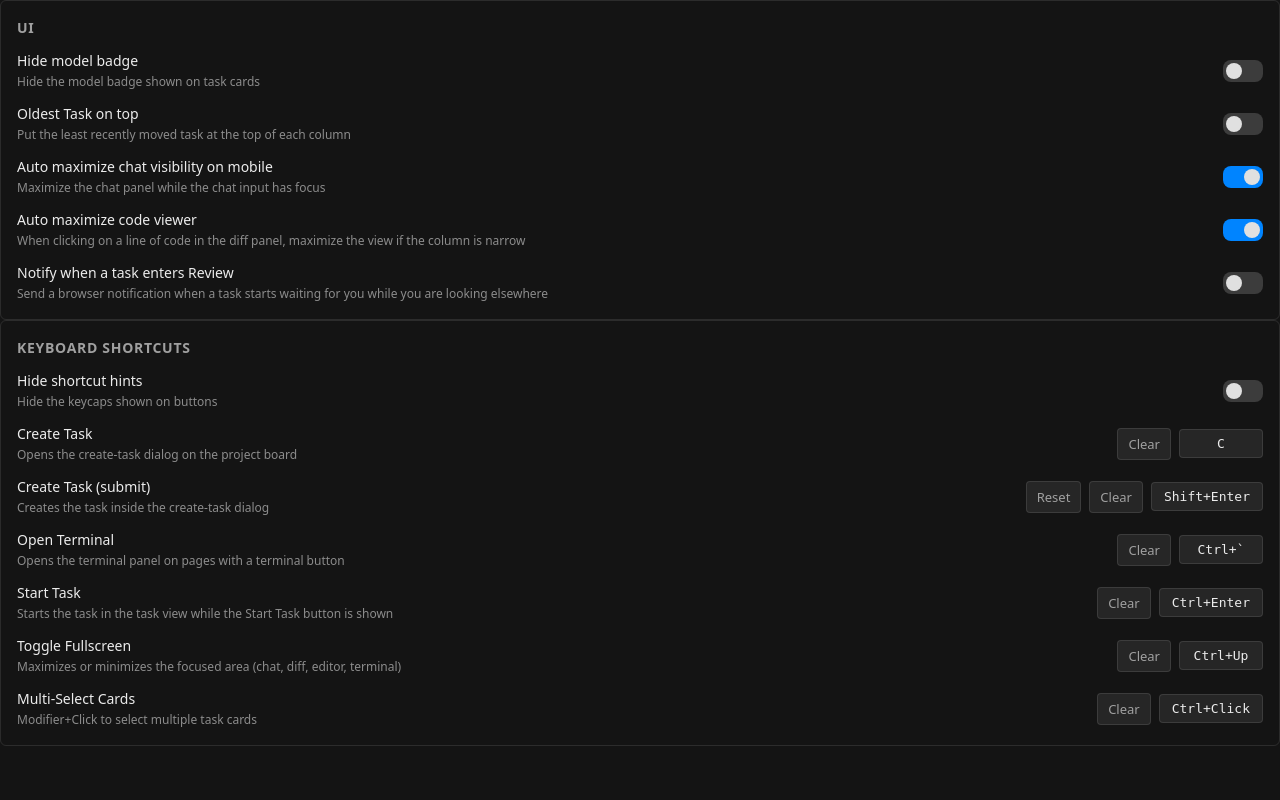
Test: PreferencesTab submit row › resets to the platform default
The image size is (1280, 800).
Click the button with aria-label "Reset to default". click: (1054, 496)
box: [1026,480,1081,512]
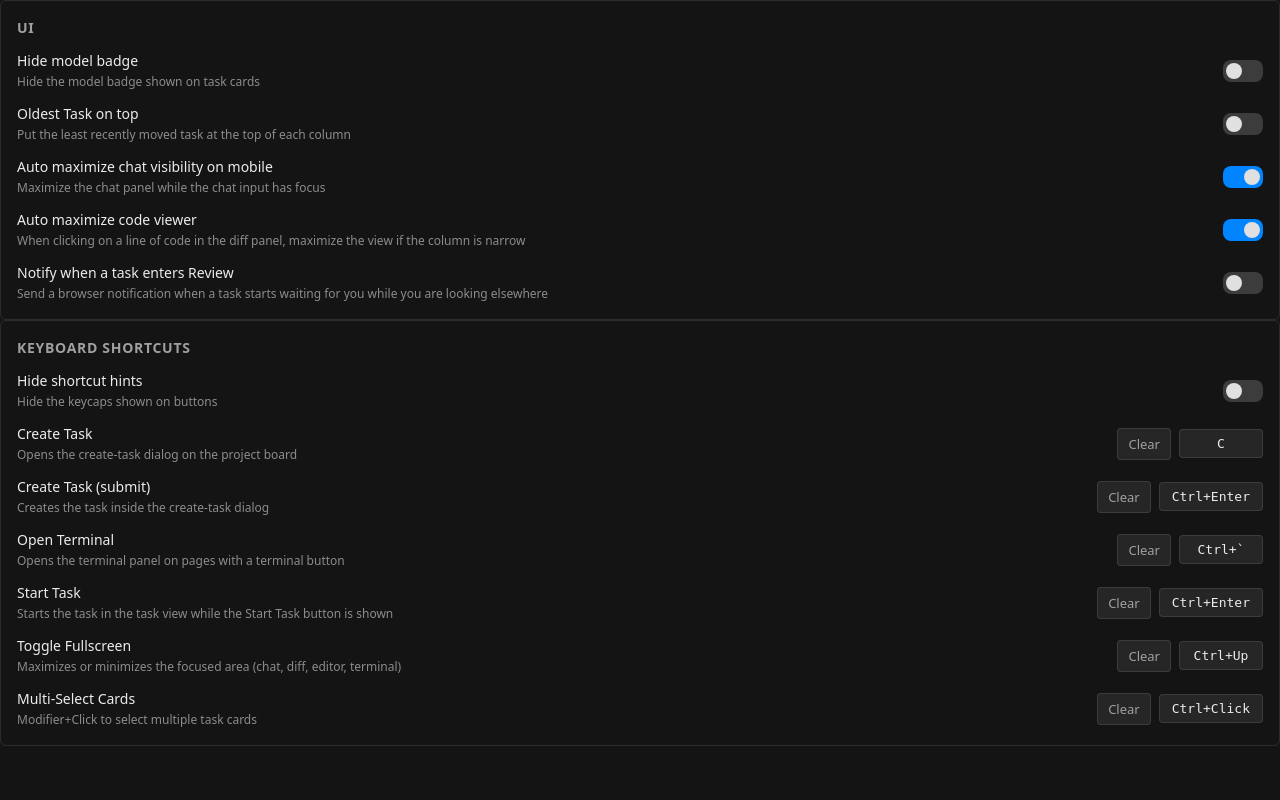
Result: the button with aria-label "create task (submit) shortcut" reads "Ctrl+Enter" at [1159,482,1263,511]
